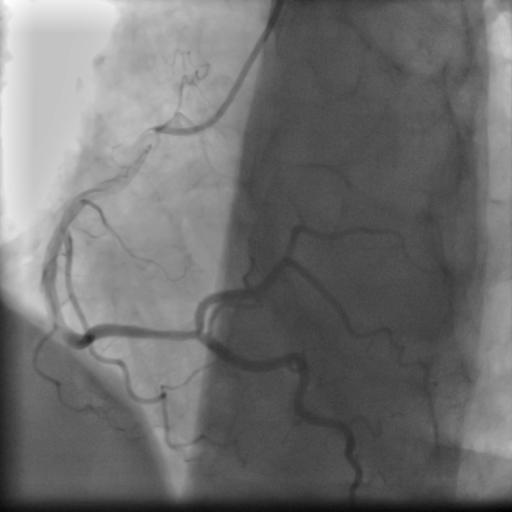Stenosis: (142, 322, 197, 347)
